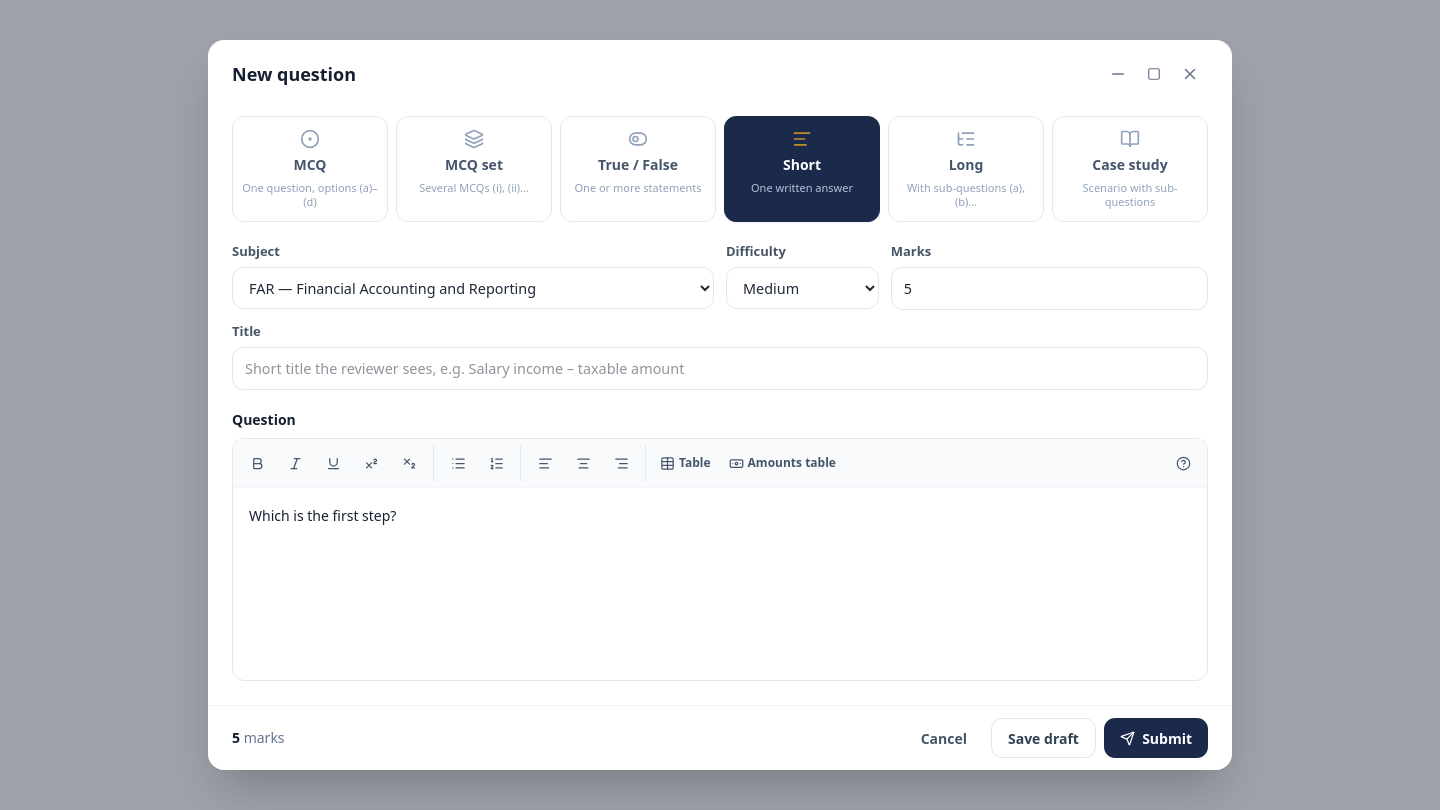
Test: QuestionEditor › switching to MCQ shows four options and checks them before saving
This screenshot has width=1440, height=810.
Click the radio button labelled "MCQ One question, options (a)–(d)": x=310, y=169 232,116 -> 388,222
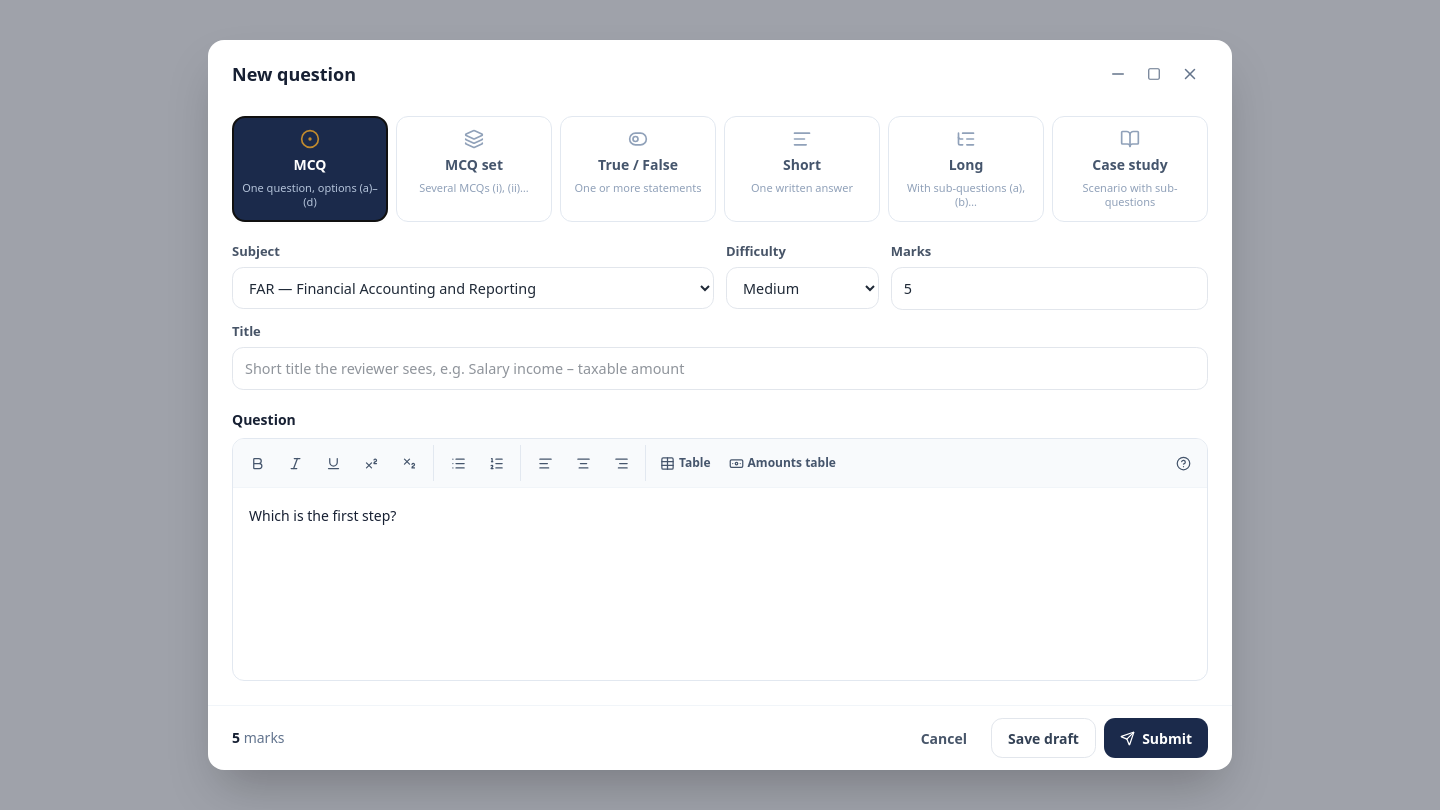
Click the button "Save draft": x=1044, y=738 991,718 -> 1096,758
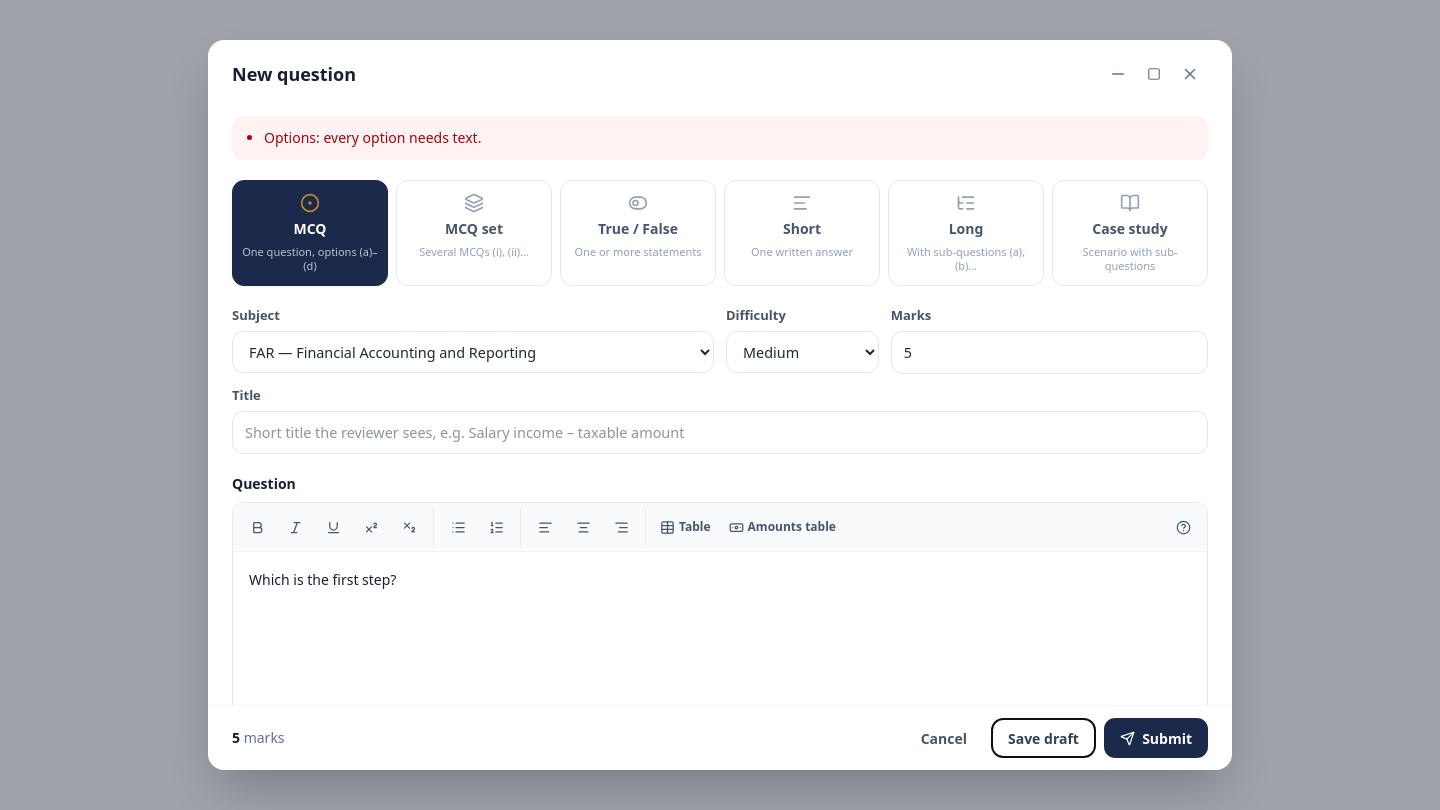
Check: the list item "Options: every option needs text." is shown, box 264,128 -> 481,147
